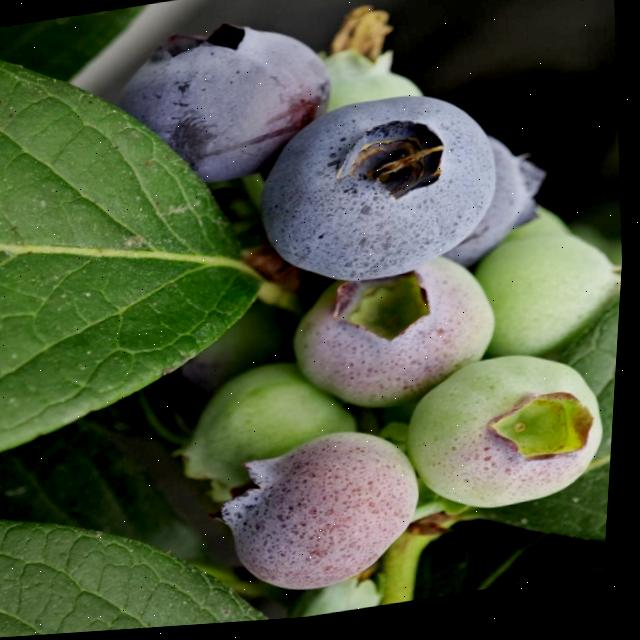RipeBlueBerry: (246, 83, 513, 303), (111, 9, 343, 201)
Semi-RipeBlueBerry: (209, 424, 438, 609), (285, 250, 509, 426)
UnripeBlueBerry: (401, 348, 622, 531)
